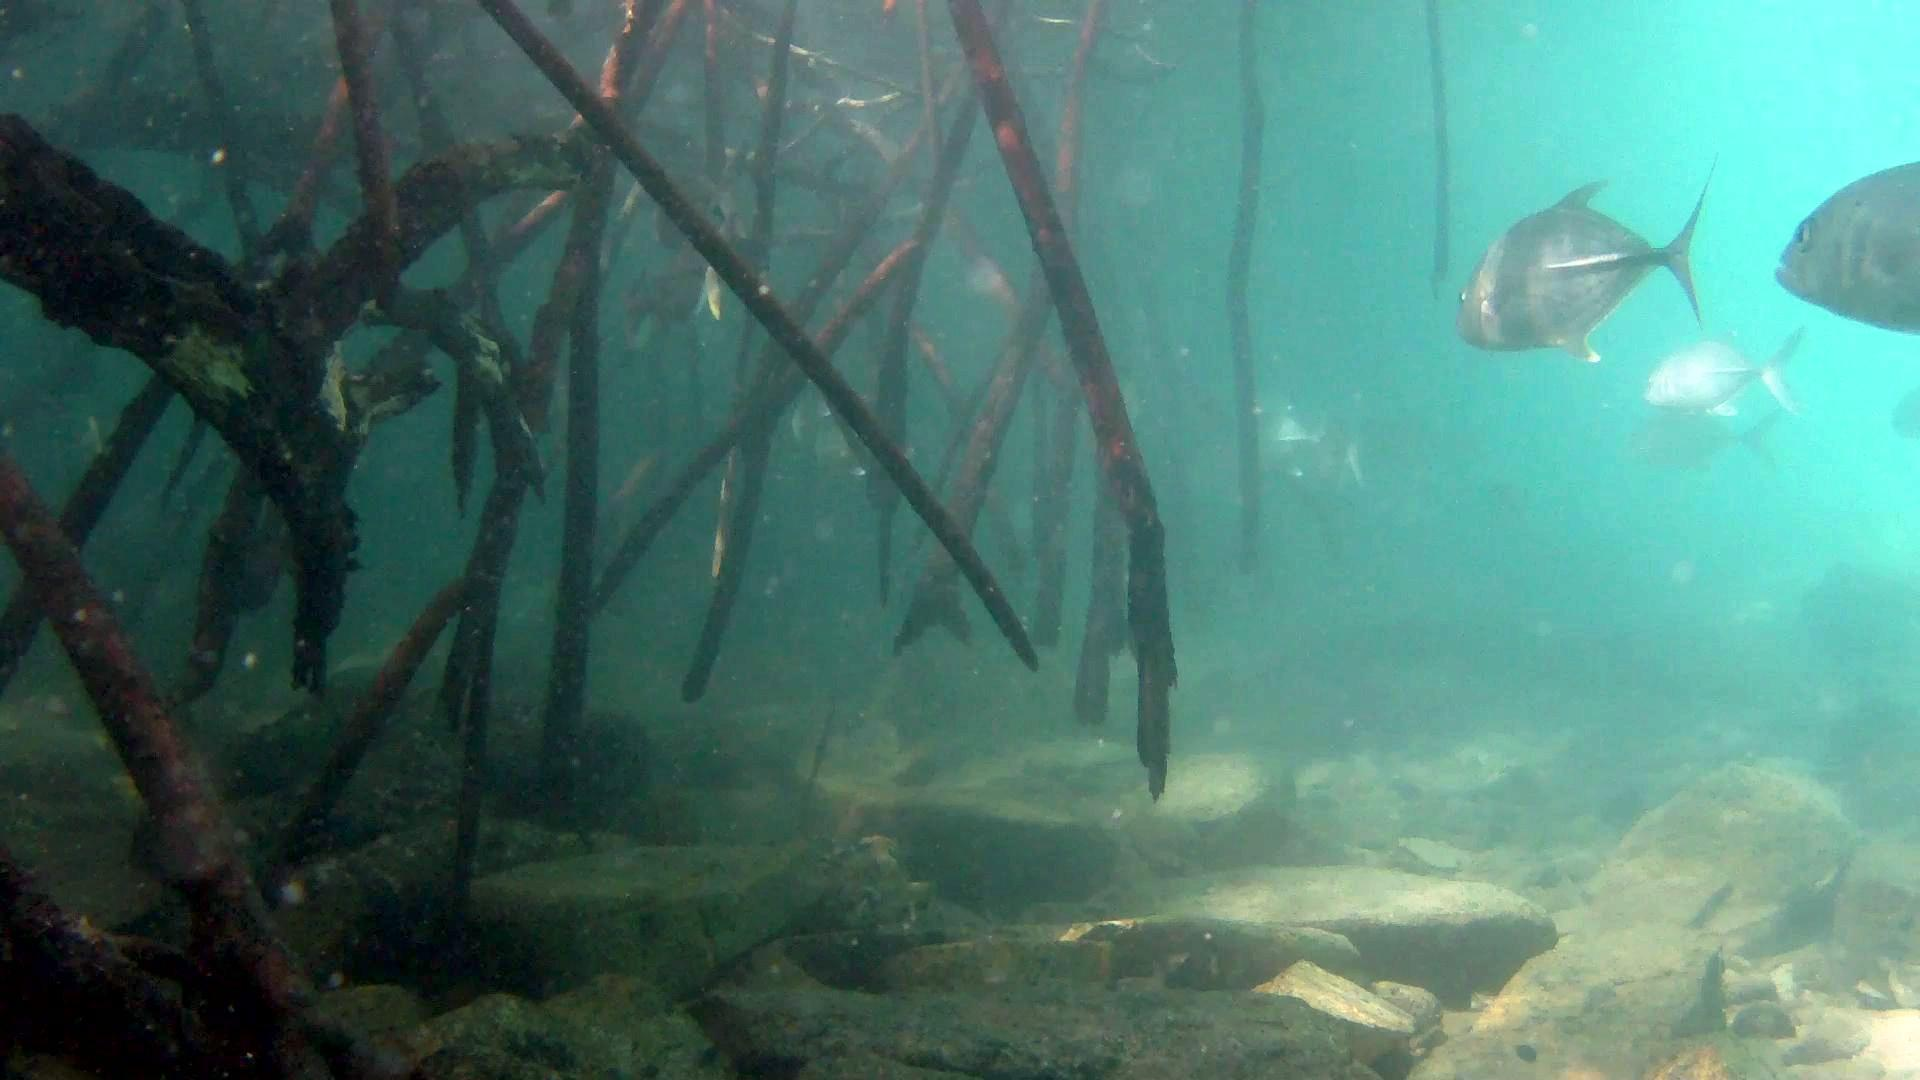caranx: (1449, 170, 1718, 372), (1771, 154, 1920, 340)
